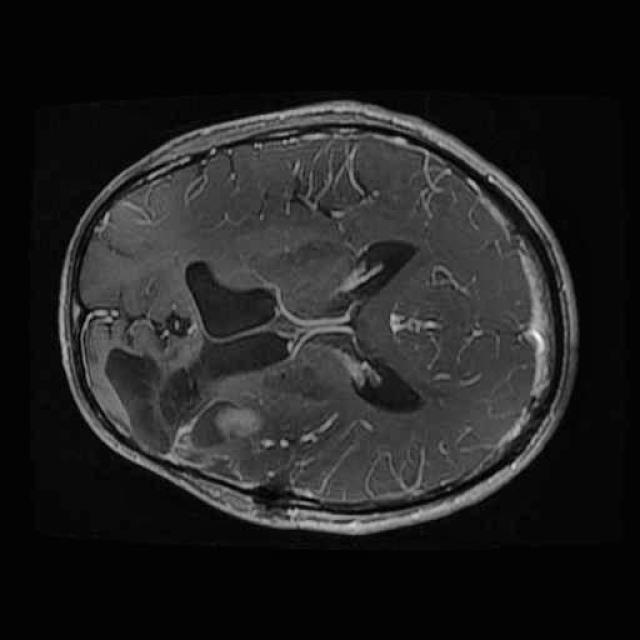Non-Tumor: (99, 340, 289, 494)
